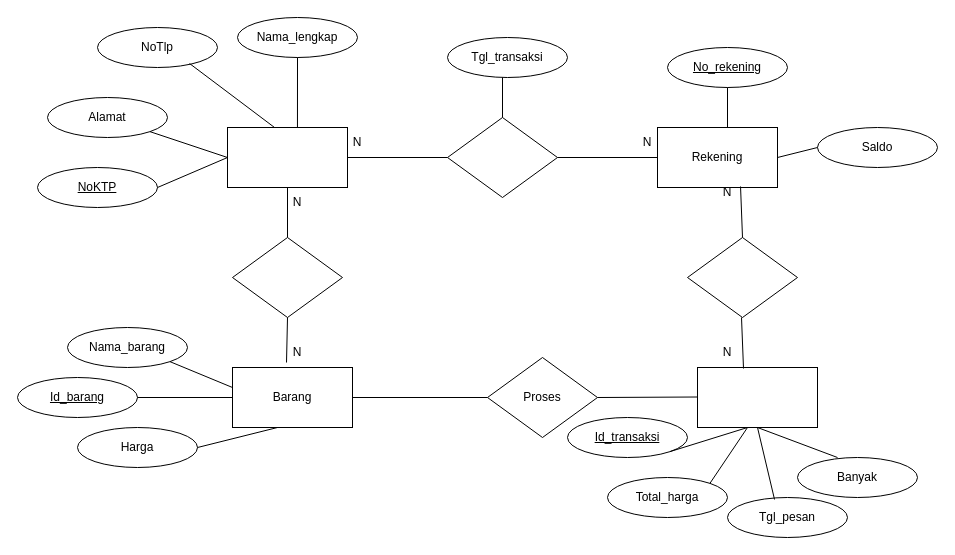
Some shapes in this 955 by 555 pixel diagram are drawn without their labels. The shapes that lost their labels are listed below. From the top down, each one's centre as x and y in pixels, then its label:
(x=287, y=157): Customer
(x=502, y=157): Memiliki
(x=287, y=277): Membeli
(x=742, y=277): Bayar
(x=757, y=397): Transaksi
